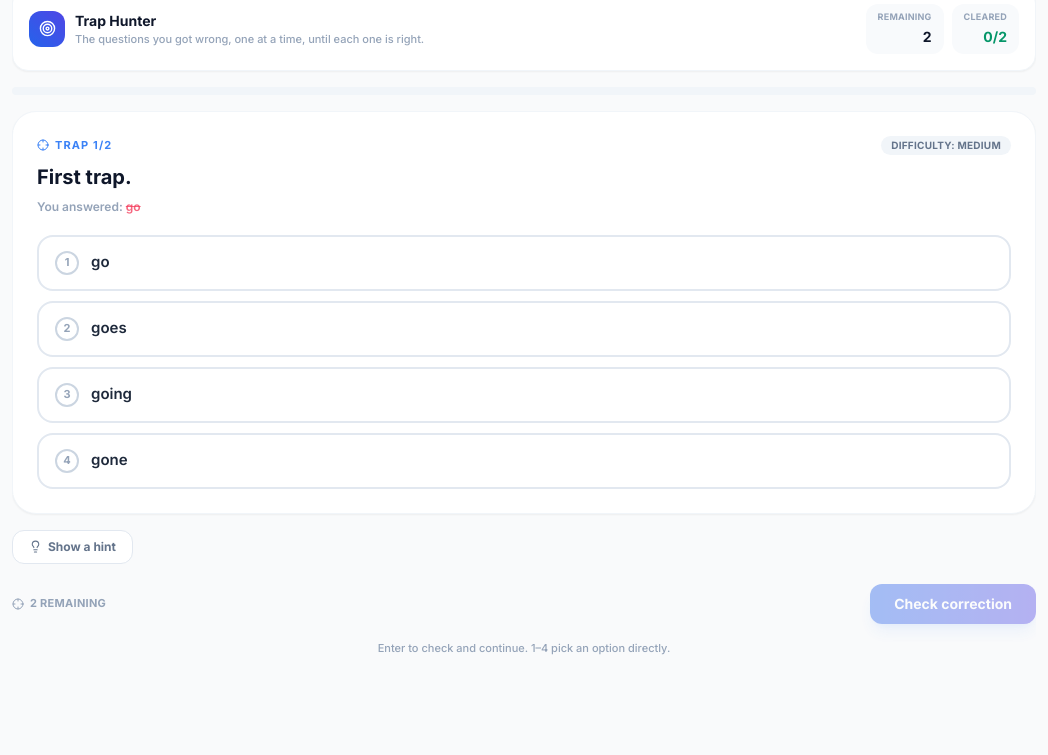
Test: correcting a trap › re-queues a missed trap to the BACK rather than marking it wrong and losing it
Expected: the heading "First trap." is shown, [37,164,132,188]
Click the radio button labelled "1 go" at (67, 262), box [37,234,1011,290]
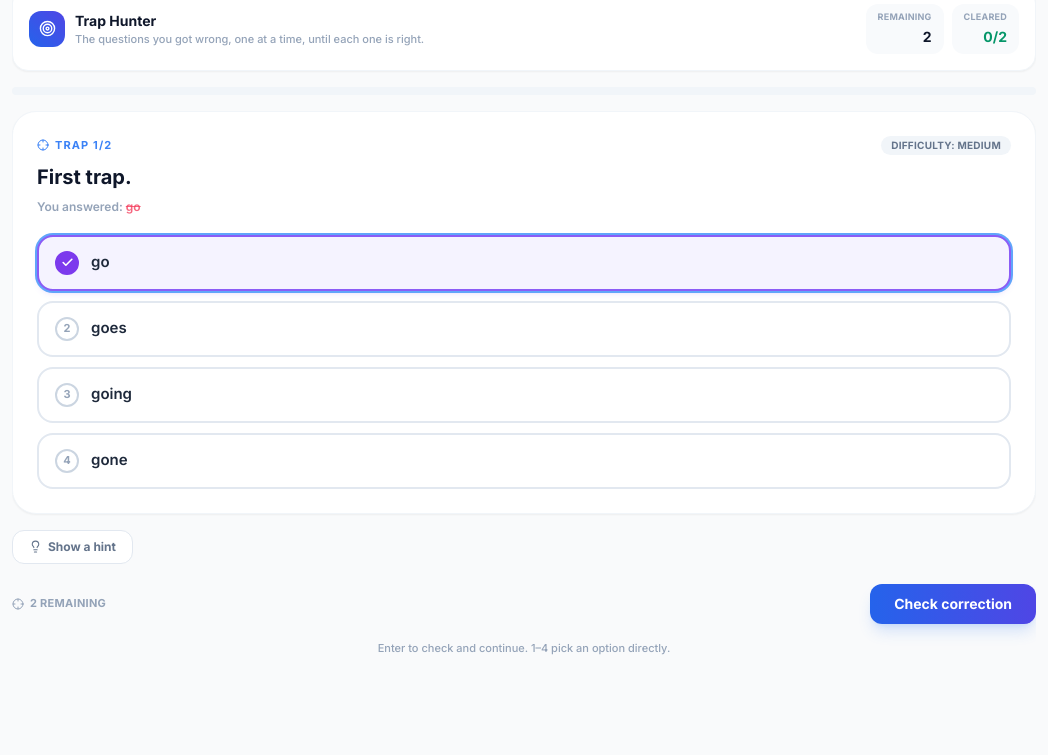
Click the button "Check correction" at (953, 604), box [870,584,1036,624]
(page scrolled)
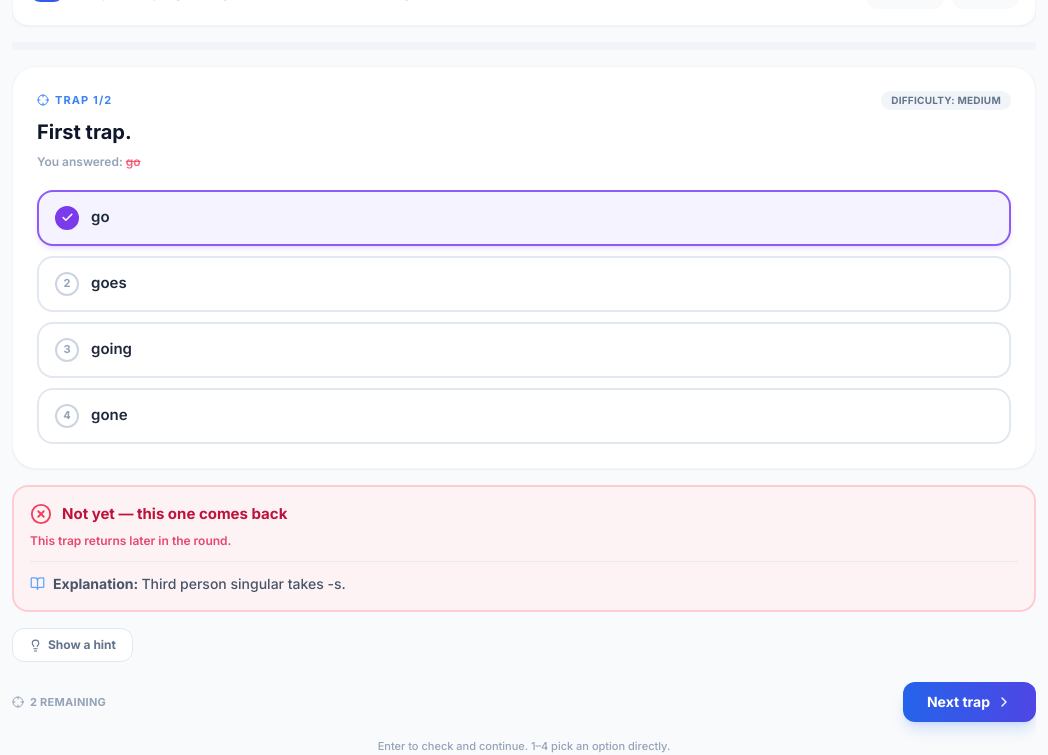
Result: the text "Not yet — this one comes back" is shown at [62,502,287,525]
Result: the text "This trap returns later in the round." is shown at [30,533,231,548]
# Next goes to the OTHER trap, not back to the same one.
Click the button "Next trap" at (969, 702), box [903,682,1036,722]
(page scrolled)
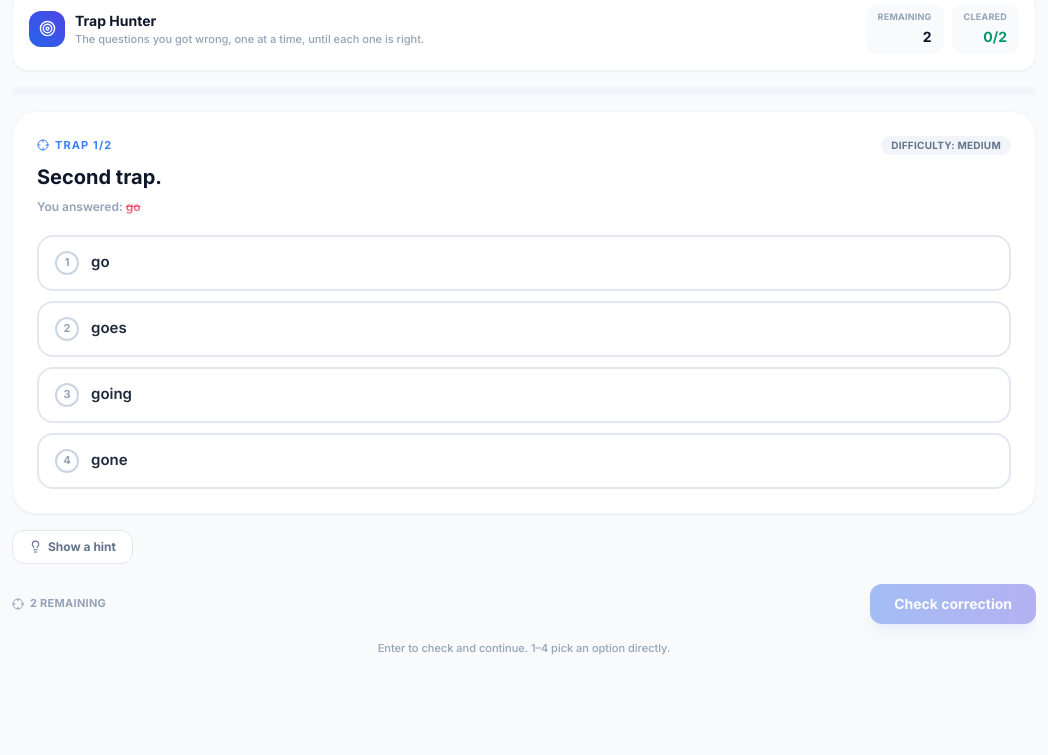
Result: the heading "Second trap." is shown at [37,164,162,188]
Result: the heading "First trap." is gone
